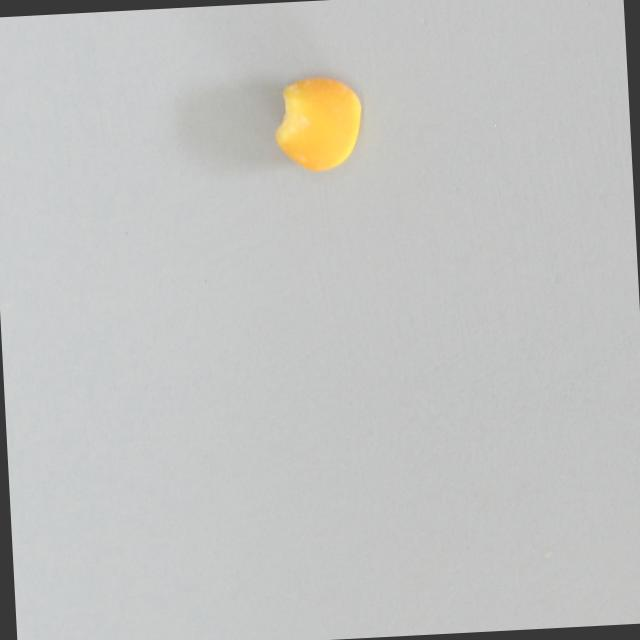no_canjicado: (260, 62, 377, 183)
